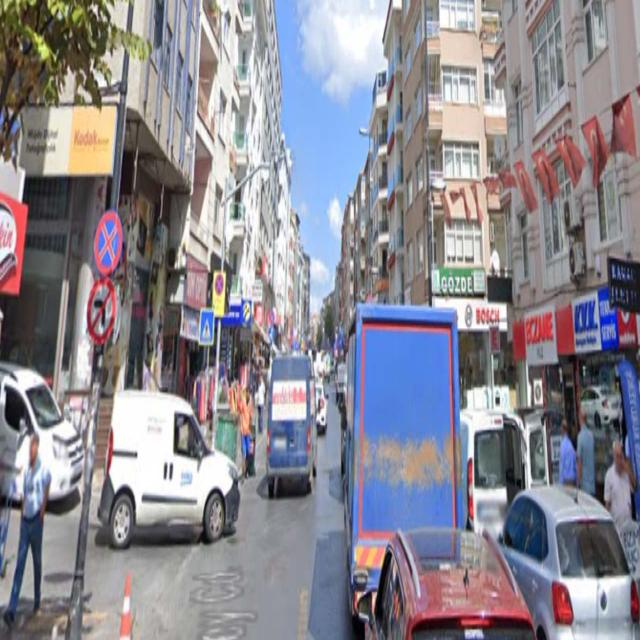soladonulmez: (85, 278, 116, 342)
